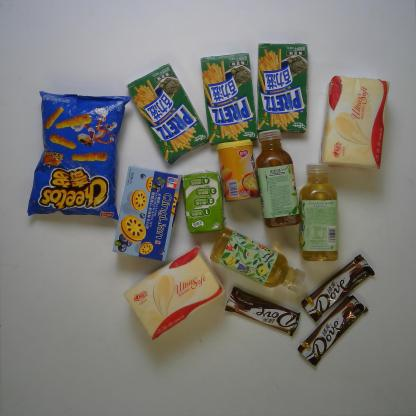Canned Food: (216, 136, 263, 204)
Chocolate: (298, 295, 370, 367), (302, 255, 374, 320), (225, 286, 301, 335)
Dessert: (126, 64, 209, 166), (111, 163, 184, 263), (256, 41, 313, 138), (199, 49, 256, 144)
Drink: (208, 228, 306, 290), (253, 128, 302, 228), (298, 164, 344, 260)
Milk: (180, 169, 224, 233)
Puffed Food: (26, 88, 133, 220)
Tissue: (124, 244, 223, 344), (318, 76, 390, 168)
